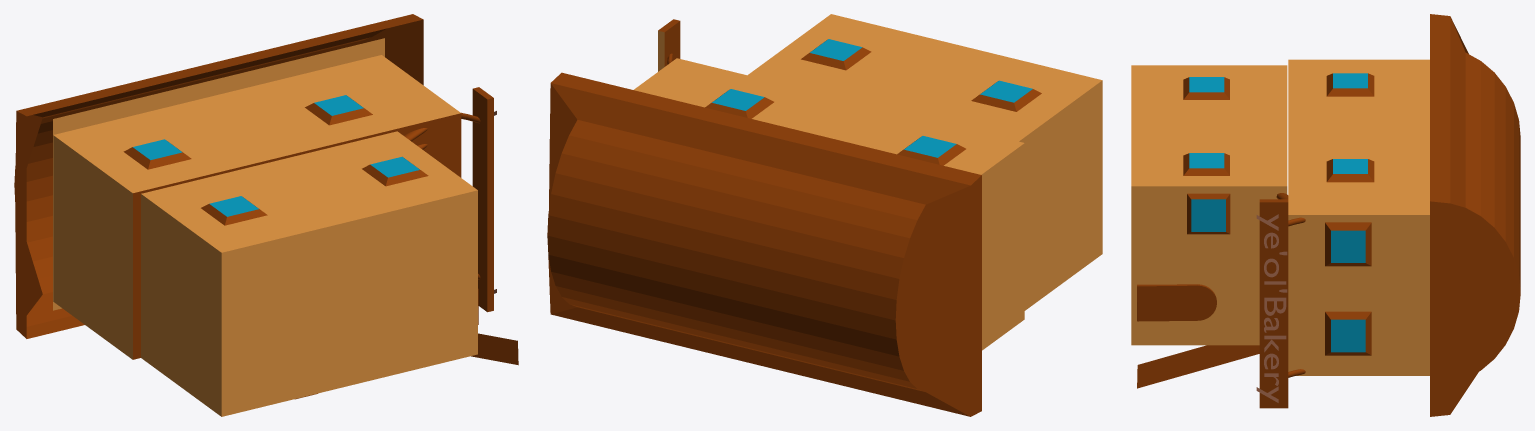
Rendered from Bakery.fbx.
3 renders of one model, left to right at view 1: azimuth 30°, elevation 25°; view 2: azimuth 150°, elevation 25°; view 3: azimuth 270°, elevation 25°, orthographic. The views are drawn at different scales.
Visible parts, largest first — view 1: Cube; view 2: Cube; view 3: Cube, Text.
Boxes of the visible parts, x1=… form: Cube: x1=14, y1=14, x2=518, y2=416; Cube: x1=547, y1=14, x2=1102, y2=416; Cube: x1=1131, y1=14, x2=1520, y2=416; Text: x1=1256, y1=214, x2=1287, y2=402.
Size of the model in its own units: 183 by 102 by 161.
